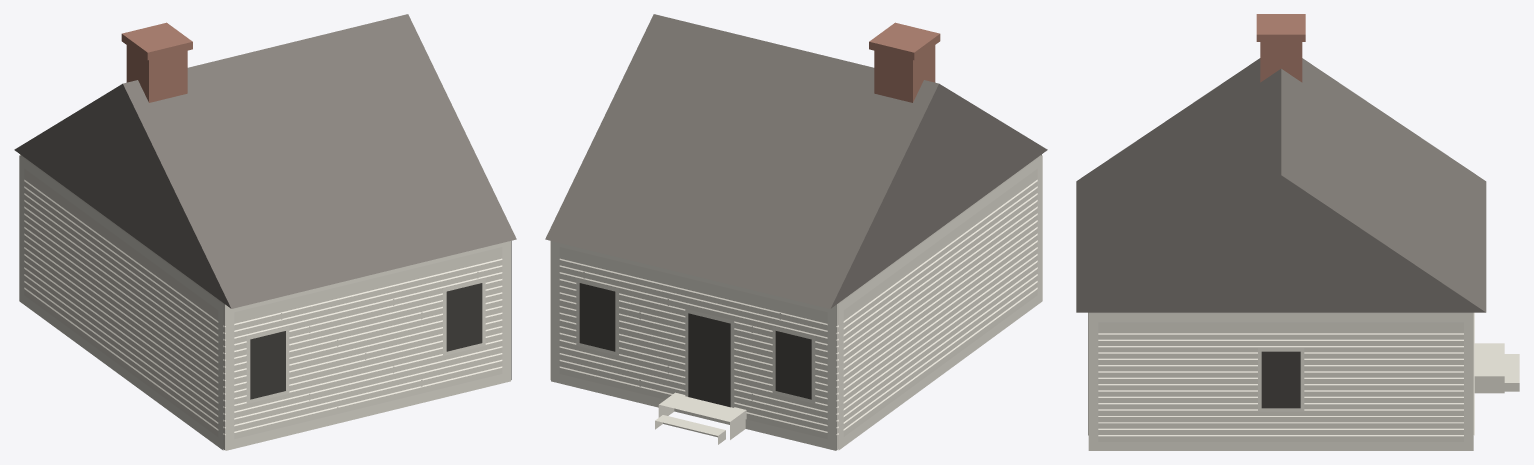
Rendered from recon_1835_blk_south_water_clark_d4_02__inferred_1835.glb.
3 views of the same model, side by side, from view 1: azimuth 30°, elevation 25°; view 2: azimuth 150°, elevation 25°; view 3: azimuth 270°, elevation 25° (orthographic). The views are drawn at different scales.
Parts seen in each view (by area): view 1: recon_1835_blk_south_water_clark_d4_02__inferred_1835; view 2: recon_1835_blk_south_water_clark_d4_02__inferred_1835; view 3: recon_1835_blk_south_water_clark_d4_02__inferred_1835.
Boxes of the visible parts, x1=… form: recon_1835_blk_south_water_clark_d4_02__inferred_1835: x1=14, y1=14, x2=516, y2=450; recon_1835_blk_south_water_clark_d4_02__inferred_1835: x1=545, y1=14, x2=1047, y2=450; recon_1835_blk_south_water_clark_d4_02__inferred_1835: x1=1076, y1=14, x2=1519, y2=450.
Size of the model in its own units: 6.28 by 6.85 by 8.86.
